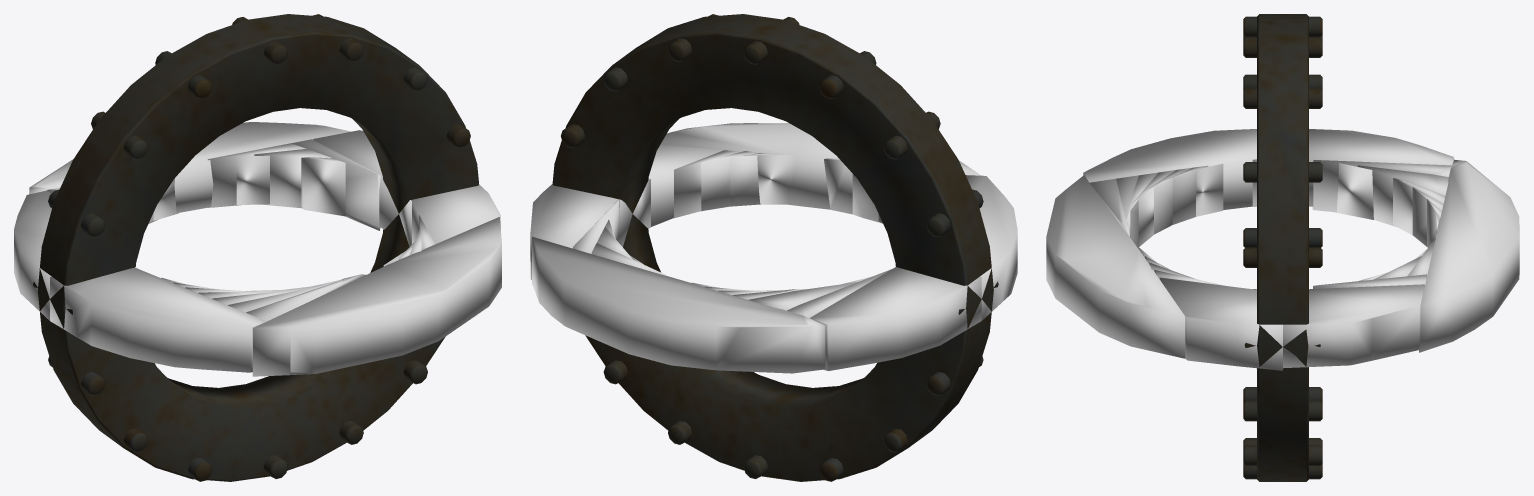
Rendered from SM_Pipes_Small_Ring.fbx.
The picture shows the model from 3 angles, left to right: view 1: azimuth 30°, elevation 25°; view 2: azimuth 150°, elevation 25°; view 3: azimuth 270°, elevation 25°; orthographic projection. The views are drawn at different scales.
Visible parts, largest first — view 1: SM_Pipes_Small_Ring, SM_Pipes_Small_Ring_ConvexHulls; view 2: SM_Pipes_Small_Ring, SM_Pipes_Small_Ring_ConvexHulls; view 3: SM_Pipes_Small_Ring_ConvexHulls, SM_Pipes_Small_Ring.
Part boxes in pixels (box(x1,y1,x2,y2)): SM_Pipes_Small_Ring: box(33, 14, 478, 481); SM_Pipes_Small_Ring_ConvexHulls: box(14, 122, 501, 376); SM_Pipes_Small_Ring: box(552, 14, 998, 481); SM_Pipes_Small_Ring_ConvexHulls: box(530, 123, 1017, 373); SM_Pipes_Small_Ring_ConvexHulls: box(1046, 129, 1519, 370); SM_Pipes_Small_Ring: box(1243, 14, 1322, 481).
Size of the model in its own units: 0.2251 by 0.2251 by 0.2273.
